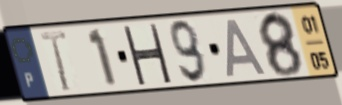1: (85, 28, 122, 90)
8: (256, 9, 307, 79)
9: (170, 17, 210, 85)
A: (225, 17, 270, 80)
H: (120, 23, 174, 86)
T: (37, 29, 72, 95)
